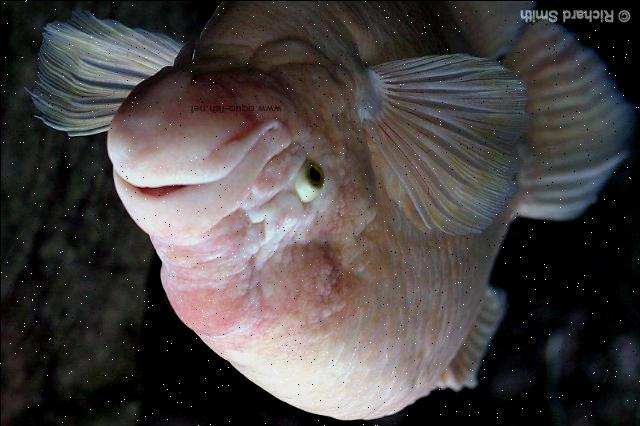Mulut: (78, 71, 302, 267)
Sirip Dada: (338, 39, 556, 249), (13, 0, 195, 171)
Sirip Ekor: (480, 9, 640, 249)
Sirip Punggung: (399, 271, 531, 421)
